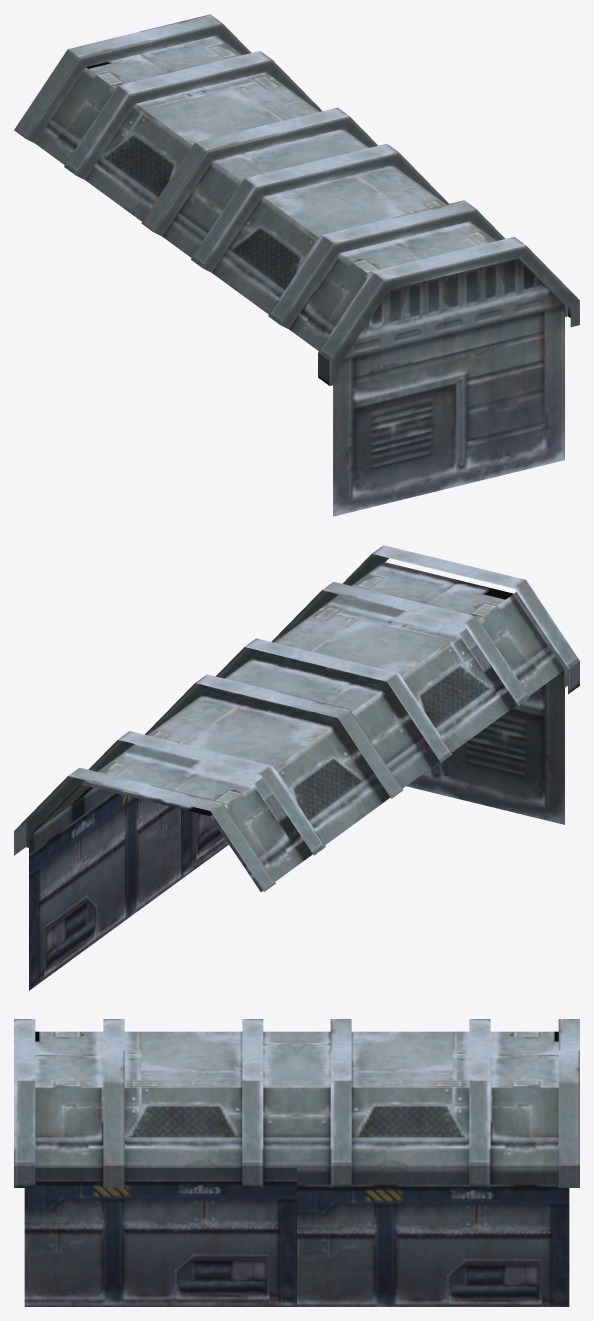
The model's file is yw_wanglingzhita_cangku02.FBX.
3 renders of one model, top to bottom at view 1: azimuth 30°, elevation 25°; view 2: azimuth 150°, elevation 25°; view 3: azimuth 270°, elevation 25°, orthographic. The views are drawn at different scales.
Parts seen in each view (by area): view 1: yw_wanglingzhita_cangku02; view 2: yw_wanglingzhita_cangku02; view 3: yw_wanglingzhita_cangku02.
Boxes of the visible parts, <box> form: yw_wanglingzhita_cangku02: <box>14,14,579,516</box>; yw_wanglingzhita_cangku02: <box>14,545,579,990</box>; yw_wanglingzhita_cangku02: <box>14,1019,579,1306</box>.
Size of the model in its own units: 541 by 475 by 1183.
1 material, 1 textured.
